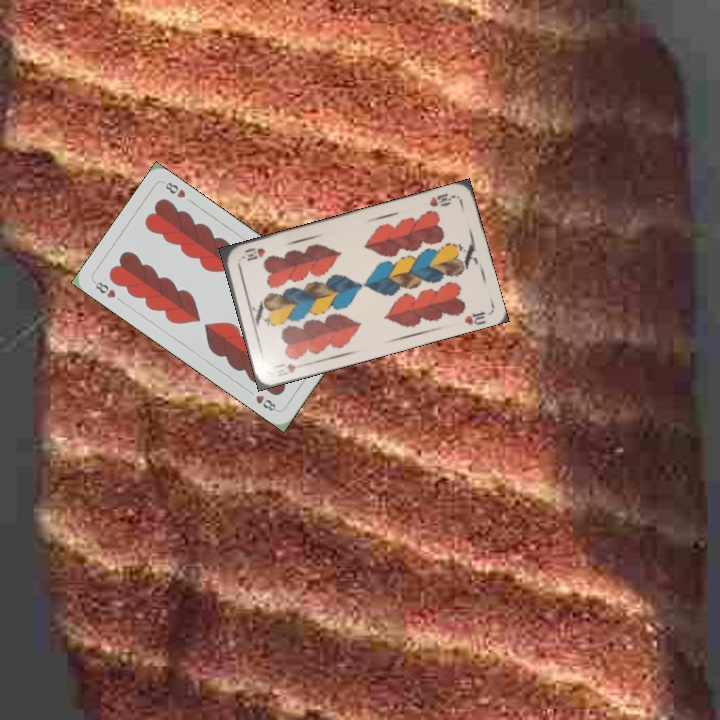H10: (425, 189, 457, 209), (270, 359, 299, 379)
H8: (89, 277, 118, 301)
